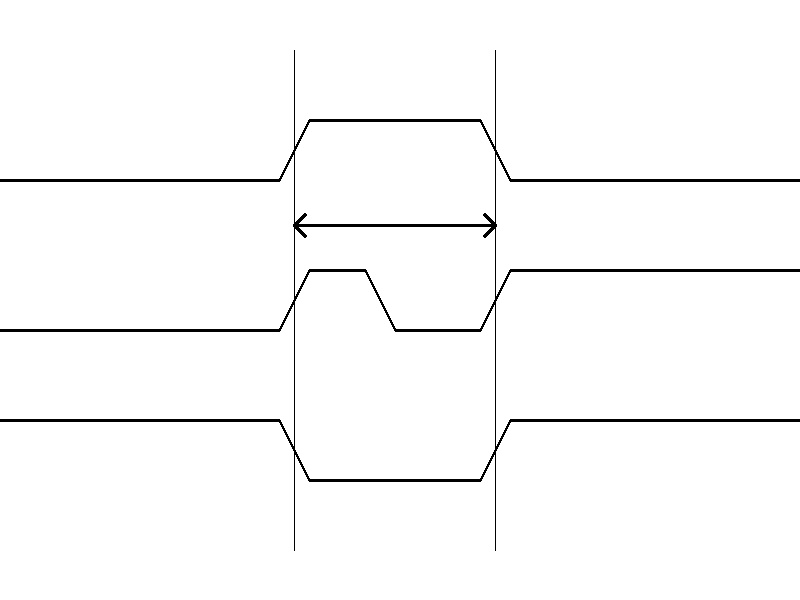double_arrow: (294, 210, 495, 240)
